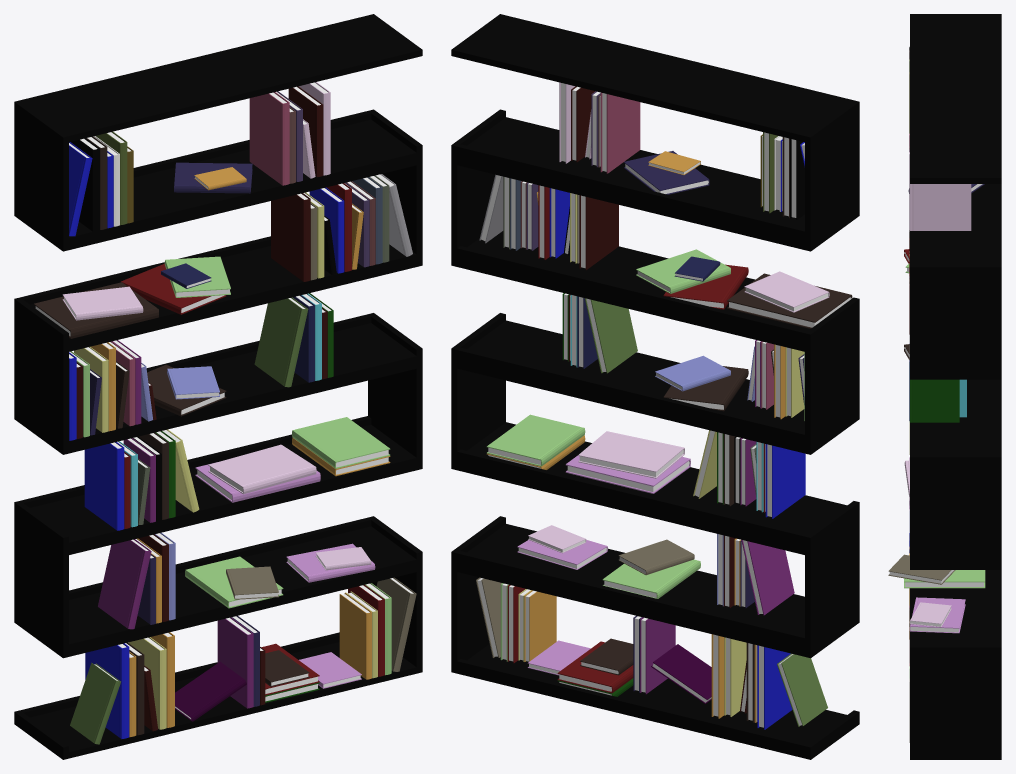
File: Library_.fbx
3 views of the same model, side by side, from view 1: azimuth 30°, elevation 25°; view 2: azimuth 150°, elevation 25°; view 3: azimuth 270°, elevation 25° (orthographic). The views are drawn at different scales.
Visible parts, largest first — view 1: Library, Book; view 2: Library, Book; view 3: Library, Book.
Boxes of the visible parts, box(x1,y1,x2,y2) form: Library: box(14, 14, 422, 759); Book: box(34, 82, 416, 744); Library: box(451, 14, 859, 759); Book: box(476, 82, 852, 729); Library: box(910, 14, 1001, 759); Book: box(888, 47, 985, 742).
Size of the model in its own units: 3030 by 5012 by 882.
